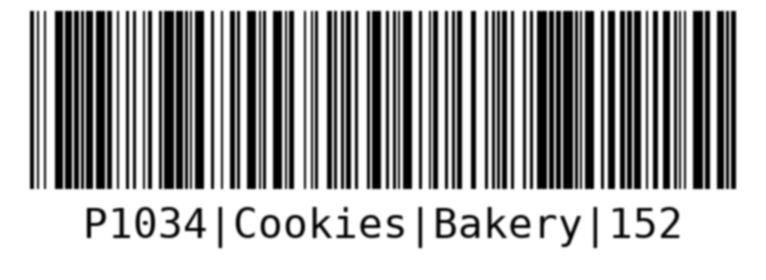milk: (25, 7, 742, 254)
